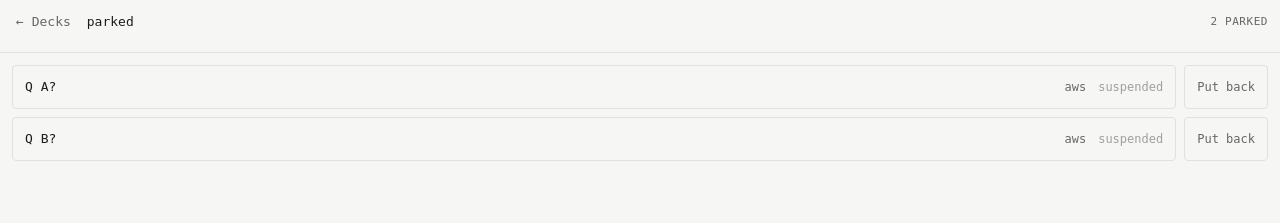
Scenario: ReviewParked keeps a put-back while another write to the note is out (#1142) › #1142 I6 a put-back that fails at last reads its note again and shows the row parked with the error
The width and height of the screenshot is (1280, 223).
What coordinates should you click on to do the following:
click the 1st button "Put back"
I would click on:
 (1226, 87)
Its box is [1184, 65, 1268, 109].
Wait 60000 ms
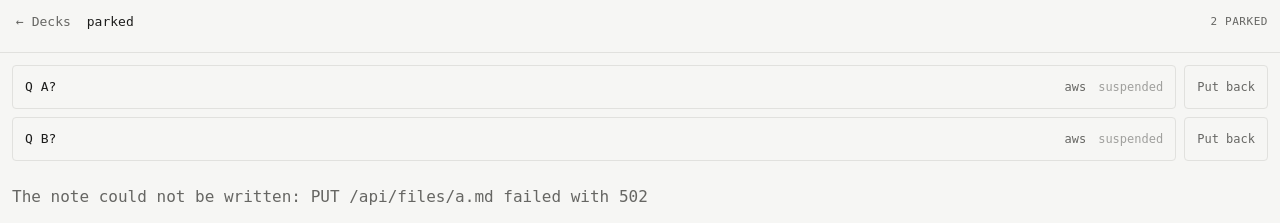
Result: the message shows "PUT /api/files/a.md failed with 502" at [311, 187, 648, 206]
